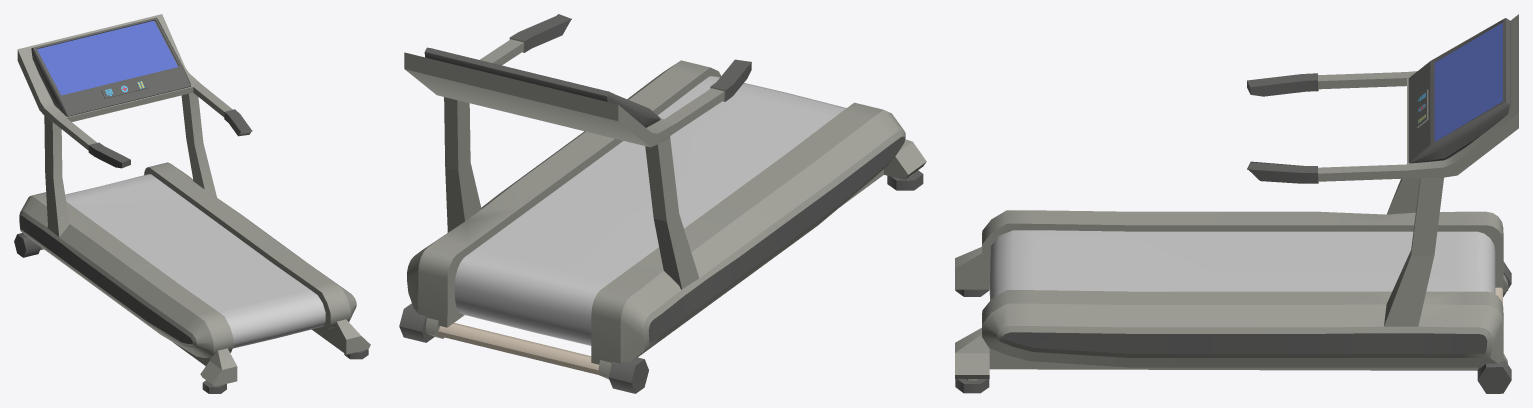
File: Gym_Treadmill.fbx
The picture shows the model from 3 angles, left to right: view 1: azimuth 30°, elevation 25°; view 2: azimuth 150°, elevation 25°; view 3: azimuth 270°, elevation 25°; orthographic projection. The views are drawn at different scales.
Visible parts, largest first — view 1: Gym_Treadmill; view 2: Gym_Treadmill; view 3: Gym_Treadmill.
Boxes of the visible parts, x1=… form: Gym_Treadmill: x1=14, y1=14, x2=370, y2=393; Gym_Treadmill: x1=399, y1=14, x2=926, y2=393; Gym_Treadmill: x1=955, y1=14, x2=1518, y2=393.
Size of the model in its own units: 1.28 by 1.5 by 2.73.
